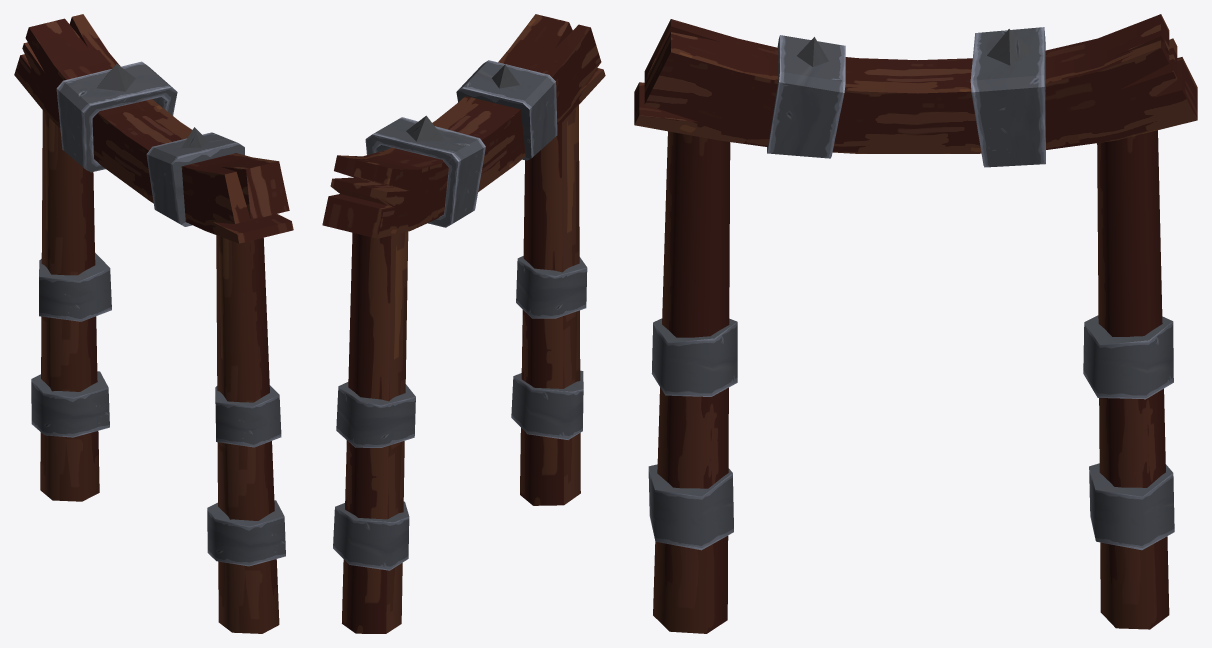
Rendered from SM_PROP_wall_wood_gate_frame_01.fbx.
The picture shows the model from 3 angles, left to right: view 1: azimuth 30°, elevation 25°; view 2: azimuth 150°, elevation 25°; view 3: azimuth 270°, elevation 25°; orthographic projection. The views are drawn at different scales.
Parts seen in each view (by area): view 1: SM_PROP_wall_wood_gate_frame_01; view 2: SM_PROP_wall_wood_gate_frame_01; view 3: SM_PROP_wall_wood_gate_frame_01.
Part boxes in pixels (x1,y1,x2,y2): SM_PROP_wall_wood_gate_frame_01: (14, 14, 293, 633); SM_PROP_wall_wood_gate_frame_01: (322, 14, 605, 633); SM_PROP_wall_wood_gate_frame_01: (634, 14, 1197, 633).
Size of what is drawn, in the model's own units: 153 by 747 by 648.
